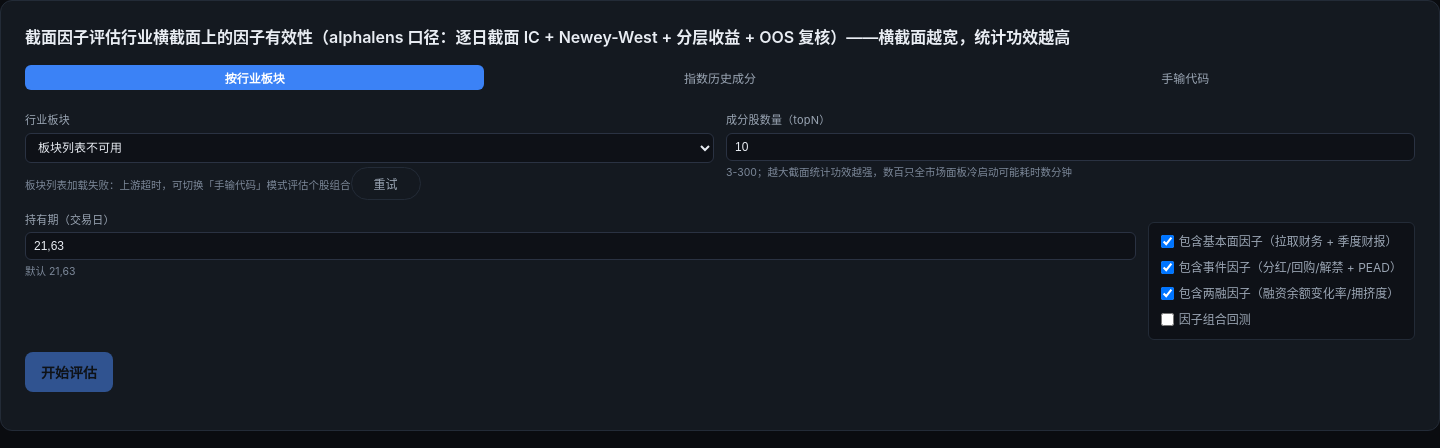
Test: CrossSectionPanel —— 初始渲染与板块列表 › 板块列表加载失败后可以就地重试（不必刷新整页）
Check: the text "板块列表加载失败：上游超时，可切换「手输代码」模式评估个股组合 重试" is shown, box x1=25 y1=166 x2=420 y2=200
Click the button "重试" at (386, 183), box x1=350 y1=166 x2=420 y2=200
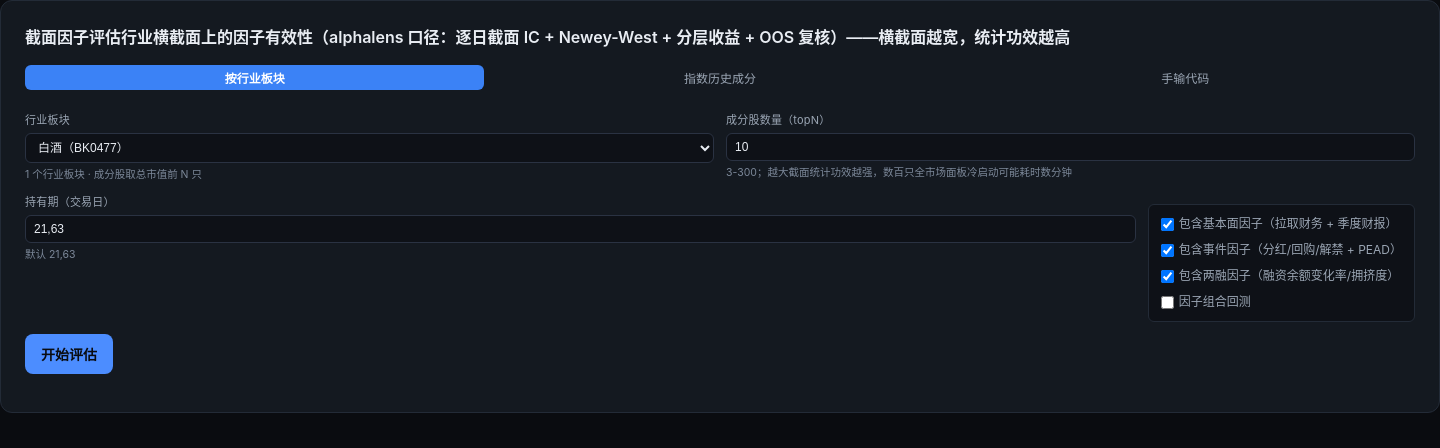
Check: the text "板块列表加载失败" is gone
